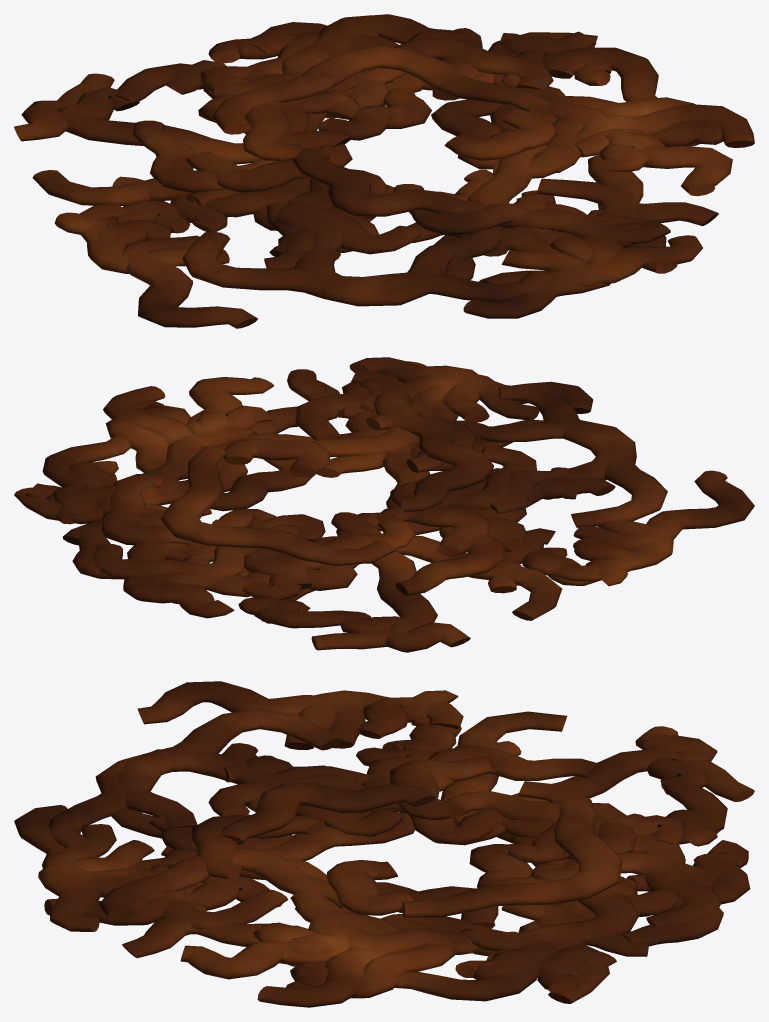
The model's file is onion_caramelized.glb.
3 renders of one model, top to bottom at view 1: azimuth 30°, elevation 25°; view 2: azimuth 150°, elevation 25°; view 3: azimuth 270°, elevation 25°, orthographic. The views are drawn at different scales.
Visible parts, largest first — view 1: onion_caramelized_web; view 2: onion_caramelized_web; view 3: onion_caramelized_web.
Part boxes in pixels (x1,y1,x2,y2): onion_caramelized_web: (14,14,754,328); onion_caramelized_web: (14,357,754,652); onion_caramelized_web: (14,681,754,1007).
Size of the model in its own units: 0.0792 by 0.0044 by 0.0757.
1 material, 1 textured.
